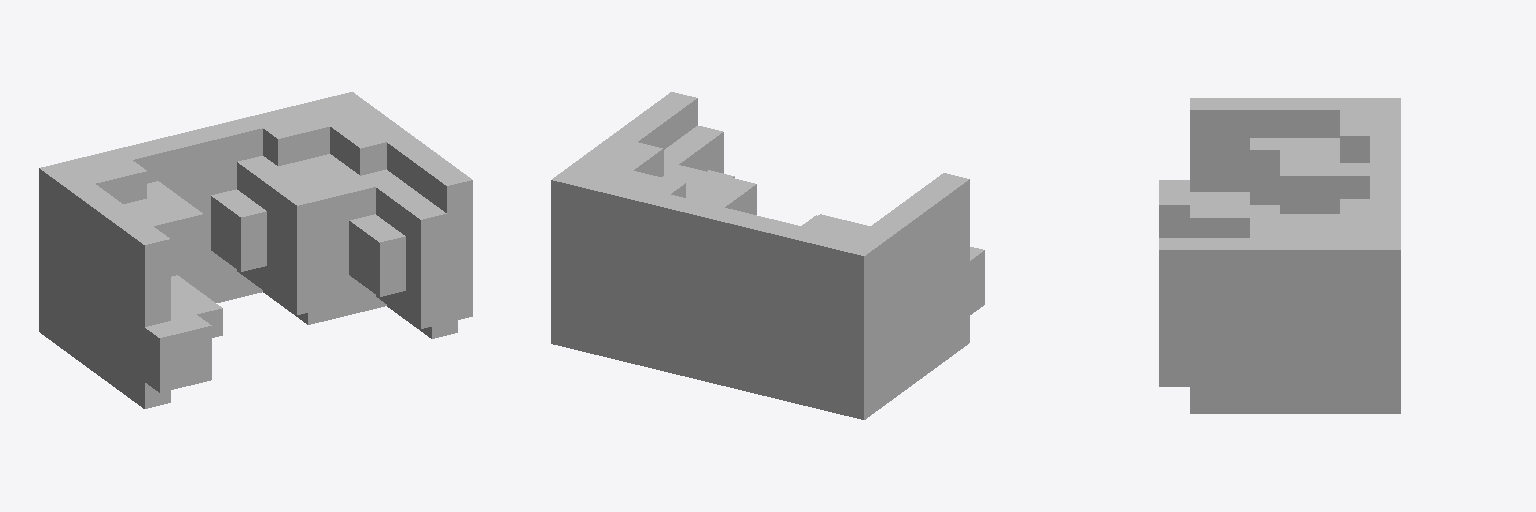
File: cliff3 12x12.obj
3 renders of one model, left to right at view 1: azimuth 30°, elevation 25°; view 2: azimuth 150°, elevation 25°; view 3: azimuth 270°, elevation 25°, orthographic.
Size of the model in its own units: 12 by 6 by 8.